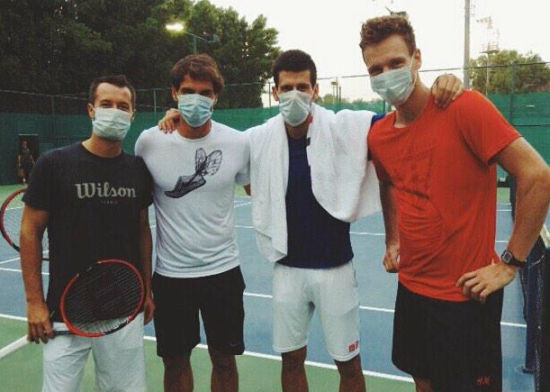face_mask: (364, 39, 416, 102), (91, 85, 133, 133), (176, 78, 214, 125), (278, 72, 313, 121)
